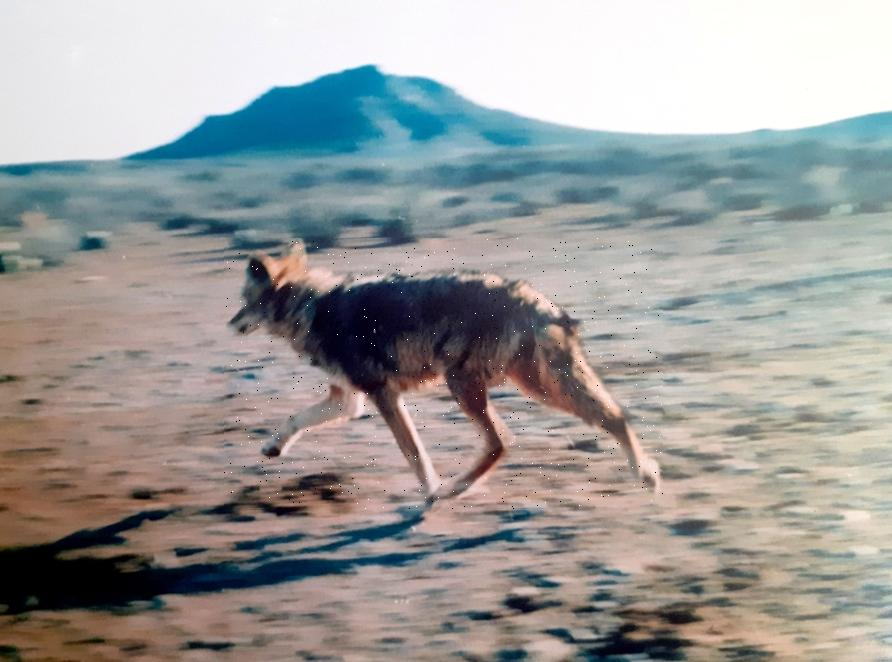Coyote: (223, 239, 662, 510)
